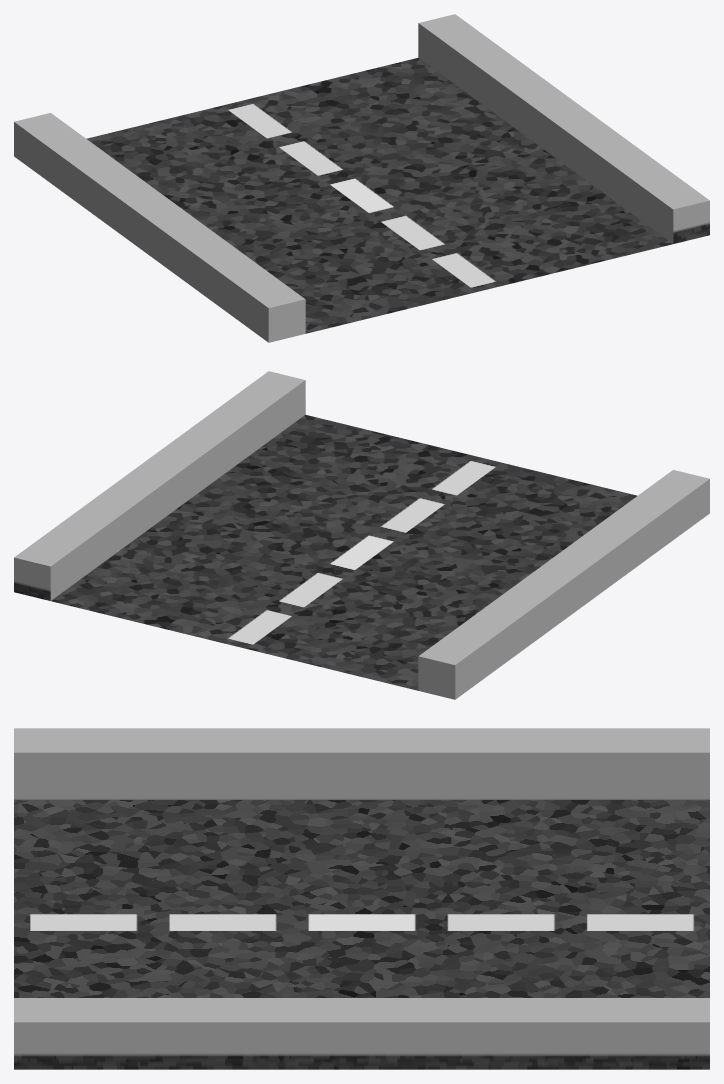
The model's file is RoadStraight.fbx.
The picture shows the model from 3 angles, top to bottom: view 1: azimuth 30°, elevation 25°; view 2: azimuth 150°, elevation 25°; view 3: azimuth 270°, elevation 25°; orthographic projection. The views are drawn at different scales.
Visible parts, largest first — view 1: Plane.007; view 2: Plane.007; view 3: Plane.007.
Part boxes in pixels (bbox=[...]): Plane.007: bbox=[14, 14, 709, 342]; Plane.007: bbox=[14, 371, 709, 699]; Plane.007: bbox=[14, 728, 709, 1069].
Size of the model in its own units: 40 by 3 by 40.
